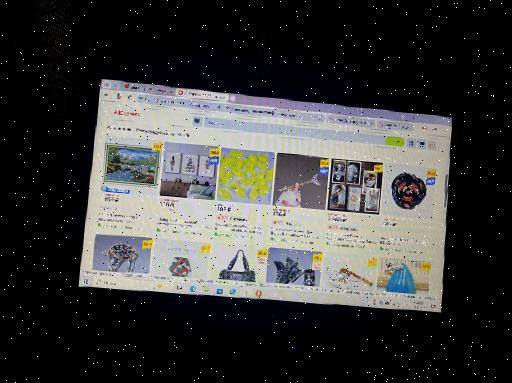aliexpress: (85, 102, 449, 300)
